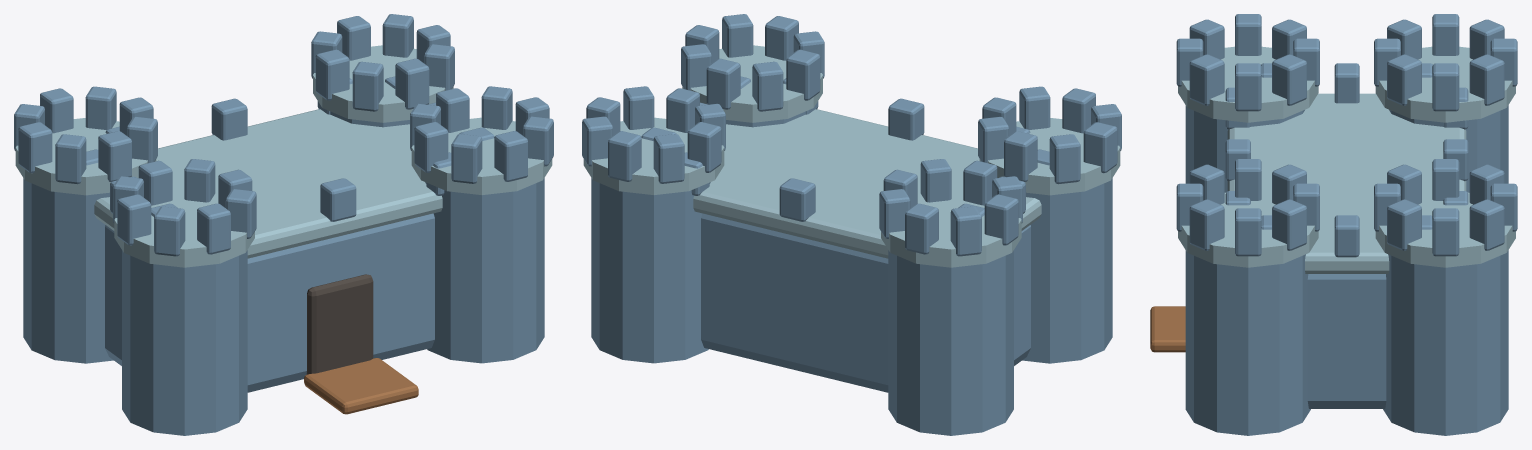
The model's file is building_castle.glb.
3 views of the same model, side by side, from view 1: azimuth 30°, elevation 25°; view 2: azimuth 150°, elevation 25°; view 3: azimuth 270°, elevation 25° (orthographic).
Visible parts, largest first — view 1: Castle_Parapet.001, Castle_Keep.001, Castle_Tower_0_Body.001, Castle_Tower_1_Body.001, Castle_Tower_2_Body.001, Castle_Gate.001, Castle_Drawbridge.001, Castle_Tower_0_TopRing.001, Castle_Tower_1_TopRing.001, Castle_Tower_3_TopRing.001, Castle_Tower_2_TopRing.001, Castle_Tower_0_Crenel_06.001 (+33 smaller); view 2: Castle_Keep.001, Castle_Parapet.001, Castle_Tower_2_Body.001, Castle_Tower_3_Body.001, Castle_Tower_0_Body.001, Castle_Tower_2_TopRing.001, Castle_Tower_3_TopRing.001, Castle_Tower_1_TopRing.001, Castle_Tower_0_TopRing.001, Castle_Tower_2_Crenel_02.001, Castle_Tower_3_Crenel_02.001, Castle_Tower_1_Crenel_02.001 (+31 smaller); view 3: Castle_Tower_1_Body.001, Castle_Tower_3_Body.001, Castle_Parapet.001, Castle_Keep.001, Castle_Tower_0_TopRing.001, Castle_Tower_2_TopRing.001, Castle_Tower_1_TopRing.001, Castle_Tower_3_TopRing.001, Castle_Tower_0_Body.001, Castle_Tower_2_Body.001, Castle_Drawbridge.001, Castle_Tower_0_Crenel_07.001 (+35 smaller).
Part boxes in pixels (x1,y1,x2,y2): Castle_Parapet.001: [94, 109, 442, 258]; Castle_Keep.001: [105, 213, 434, 392]; Castle_Tower_0_Body.001: [122, 250, 247, 435]; Castle_Tower_1_Body.001: [425, 178, 544, 363]; Castle_Tower_2_Body.001: [23, 178, 113, 363]; Castle_Gate.001: [306, 274, 373, 374]; Castle_Drawbridge.001: [304, 358, 418, 414]; Castle_Tower_0_TopRing.001: [114, 190, 254, 267]; Castle_Tower_1_TopRing.001: [411, 117, 552, 194]; Castle_Tower_3_TopRing.001: [313, 45, 453, 122]; Castle_Tower_2_TopRing.001: [15, 118, 156, 195]; Castle_Tower_0_Crenel_06.001: [197, 203, 230, 254]; Castle_Keep.001: [701, 213, 1030, 392]; Castle_Parapet.001: [693, 109, 1041, 258]; Castle_Tower_2_Body.001: [888, 250, 1013, 435]; Castle_Tower_3_Body.001: [591, 178, 710, 363]; Castle_Tower_0_Body.001: [1022, 178, 1112, 363]; Castle_Tower_2_TopRing.001: [881, 190, 1021, 267]; Castle_Tower_3_TopRing.001: [583, 117, 724, 194]; Castle_Tower_1_TopRing.001: [682, 45, 822, 122]; Castle_Tower_0_TopRing.001: [979, 118, 1120, 195]; Castle_Tower_2_Crenel_02.001: [905, 203, 938, 254]; Castle_Tower_3_Crenel_02.001: [608, 131, 641, 181]; Castle_Tower_1_Crenel_02.001: [706, 58, 740, 109]; Castle_Tower_1_Body.001: [1185, 250, 1310, 435]; Castle_Tower_3_Body.001: [1383, 250, 1508, 435]; Castle_Parapet.001: [1227, 93, 1466, 273]; Castle_Keep.001: [1307, 274, 1386, 408]; Castle_Tower_0_TopRing.001: [1178, 46, 1318, 122]; Castle_Tower_2_TopRing.001: [1375, 46, 1515, 122]; Castle_Tower_1_TopRing.001: [1178, 191, 1318, 267]; Castle_Tower_3_TopRing.001: [1375, 191, 1515, 267]; Castle_Tower_0_Body.001: [1185, 105, 1304, 192]; Castle_Tower_2_Body.001: [1389, 105, 1508, 192]; Castle_Drawbridge.001: [1150, 306, 1185, 352]; Castle_Tower_0_Crenel_07.001: [1189, 54, 1224, 105].
Size of the model in its own units: 5.82 by 2.92 by 4.39.
